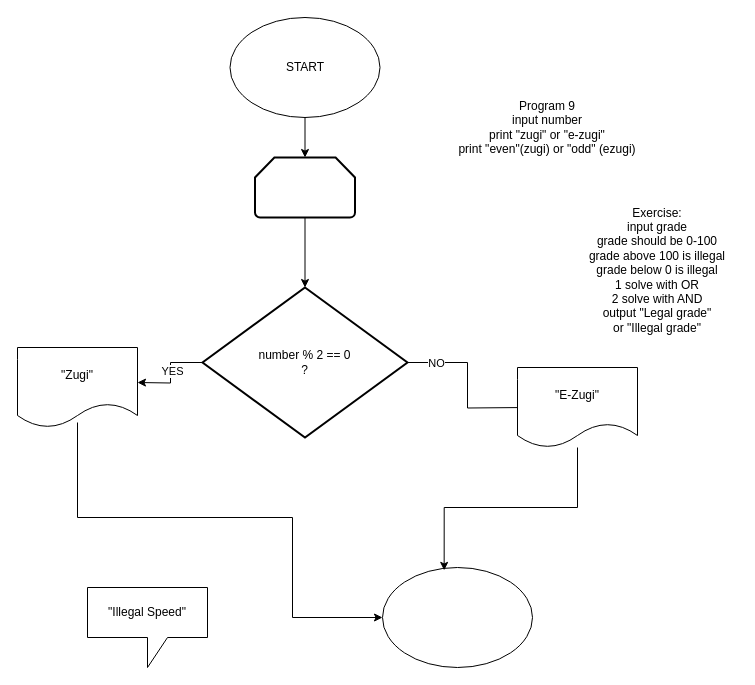
Image size: 755x685. Some labels were removed from this diagram. The centre of each missing label's shape, as x and y in pixels:
number: point 305,187
STOP: point 457,617
